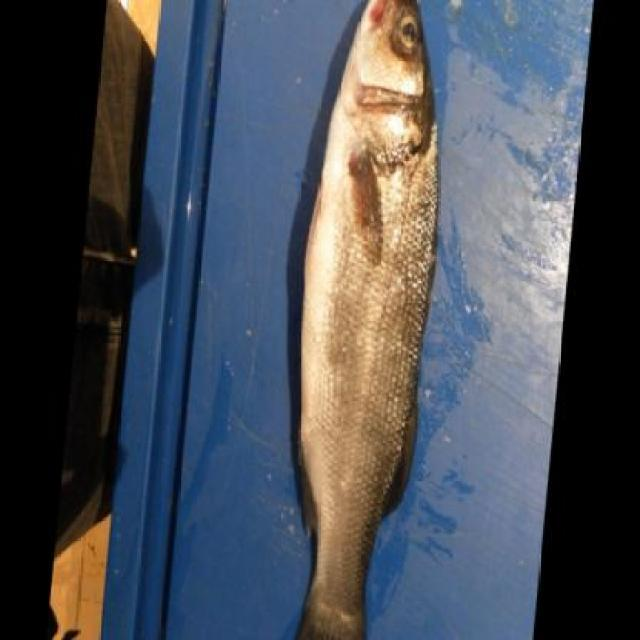Healthy Fish: (281, 0, 444, 640)
